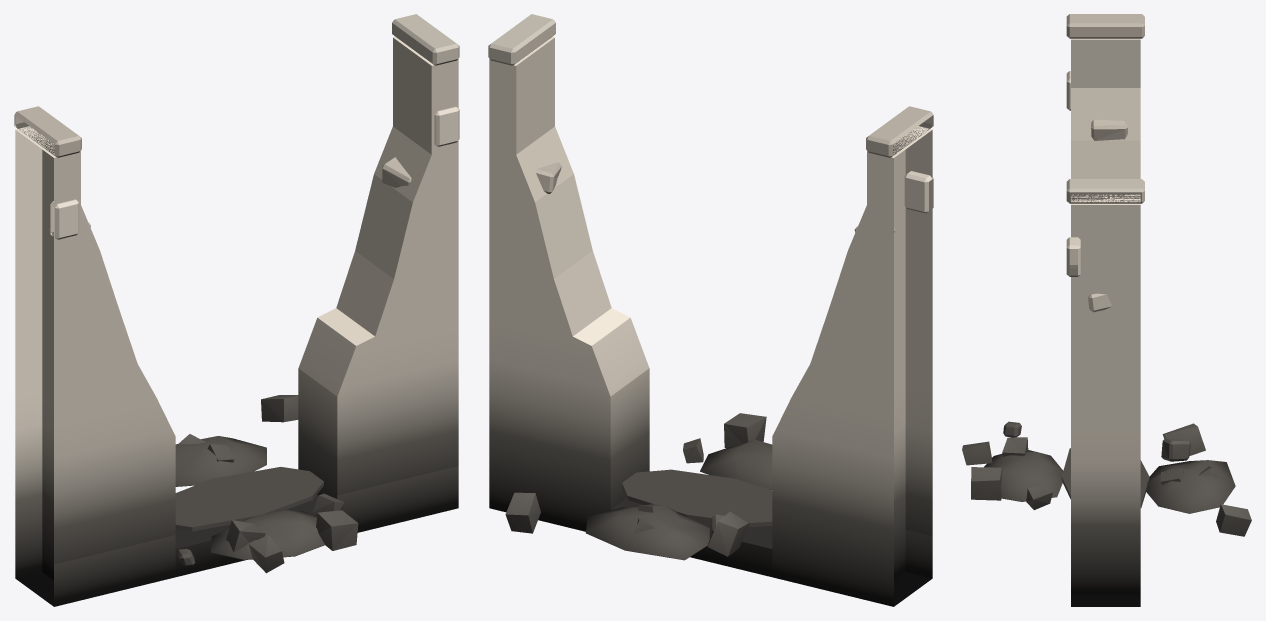
File: SM_VKI_Wall_Ancient_Breach_300_Full.fbx
3 renders of one model, left to right at view 1: azimuth 30°, elevation 25°; view 2: azimuth 150°, elevation 25°; view 3: azimuth 270°, elevation 25°, orthographic. The views are drawn at different scales.
Parts seen in each view (by area): view 1: SM_VKI_Wall_Ancient_Breach_300_Full.001; view 2: SM_VKI_Wall_Ancient_Breach_300_Full.001; view 3: SM_VKI_Wall_Ancient_Breach_300_Full.001.
Part boxes in pixels (x1=…): SM_VKI_Wall_Ancient_Breach_300_Full.001: x1=14, y1=14, x2=459, y2=606; SM_VKI_Wall_Ancient_Breach_300_Full.001: x1=488, y1=14, x2=933, y2=606; SM_VKI_Wall_Ancient_Breach_300_Full.001: x1=962, y1=14, x2=1251, y2=606.
Bounding box in the file's own units: 3 × 3.3 × 2.08.
